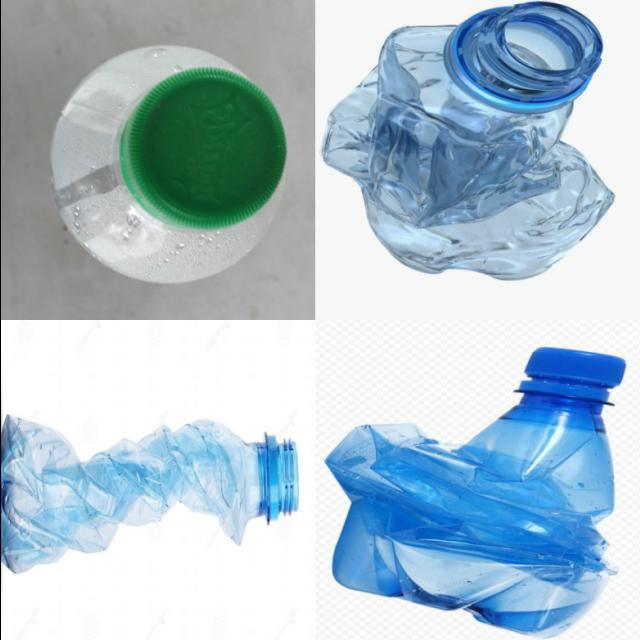plastik: (325, 348, 625, 637), (323, 2, 614, 280), (50, 45, 285, 282), (0, 416, 298, 573)
